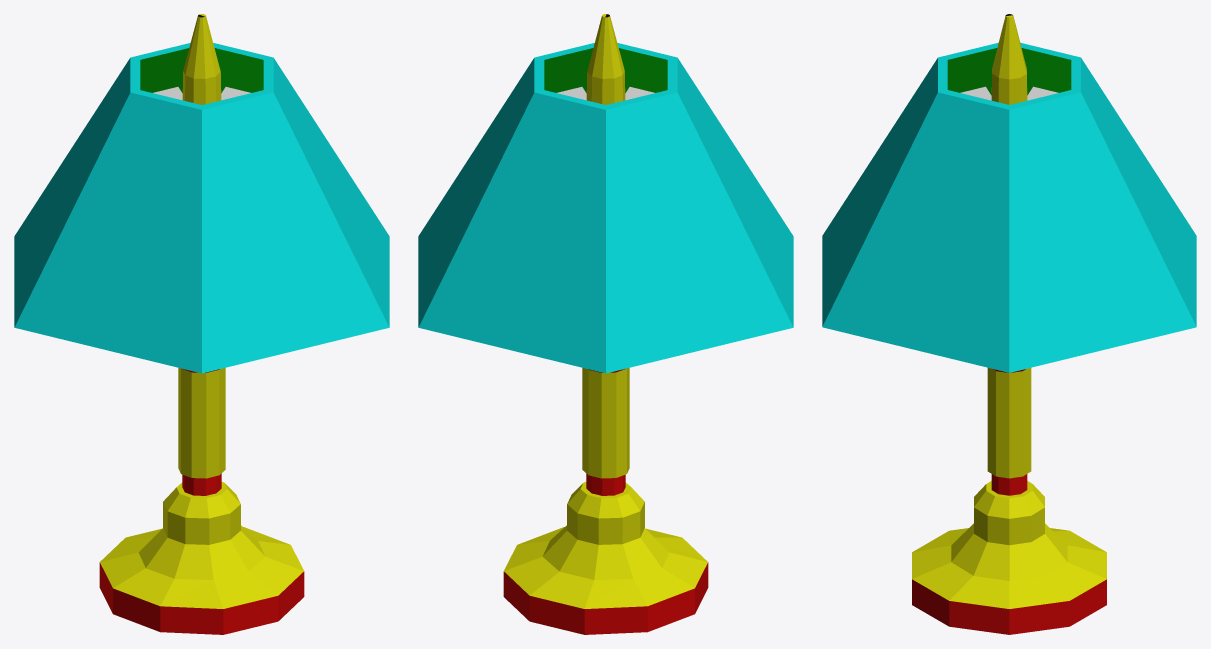
The model's file is Surfacing_Lamp.fbx.
3 views of the same model, side by side, from view 1: azimuth 30°, elevation 25°; view 2: azimuth 150°, elevation 25°; view 3: azimuth 270°, elevation 25° (orthographic).
Visible parts, largest first — view 1: pCylinder2, pCylinder1; view 2: pCylinder2, pCylinder1; view 3: pCylinder2, pCylinder1.
Boxes of the visible parts, x1,y1,x2,y2 form: pCylinder2: (14, 43, 389, 373); pCylinder1: (99, 14, 304, 634); pCylinder2: (418, 43, 793, 373); pCylinder1: (503, 14, 708, 634); pCylinder2: (822, 42, 1196, 372); pCylinder1: (912, 14, 1106, 634).
Bounding box in the file's own units: 0.7585 × 1.11 × 0.6569.
